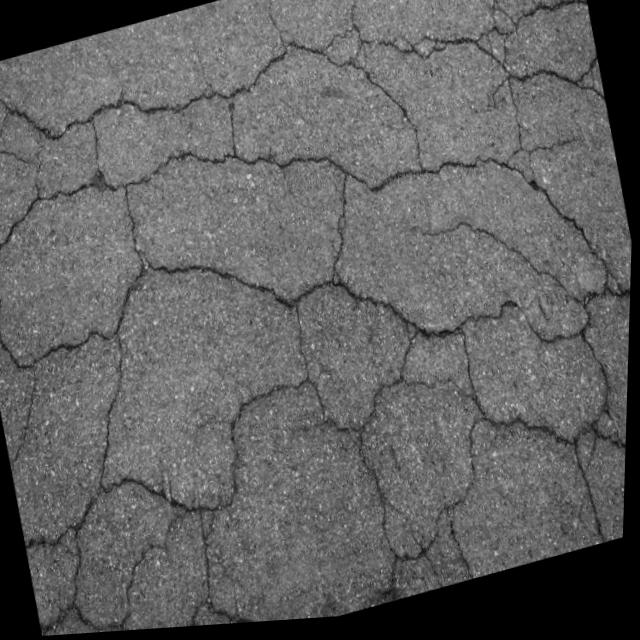Crack: (176, 194, 528, 610), (0, 27, 415, 319), (0, 273, 234, 640), (371, 0, 595, 214), (469, 205, 634, 483)
